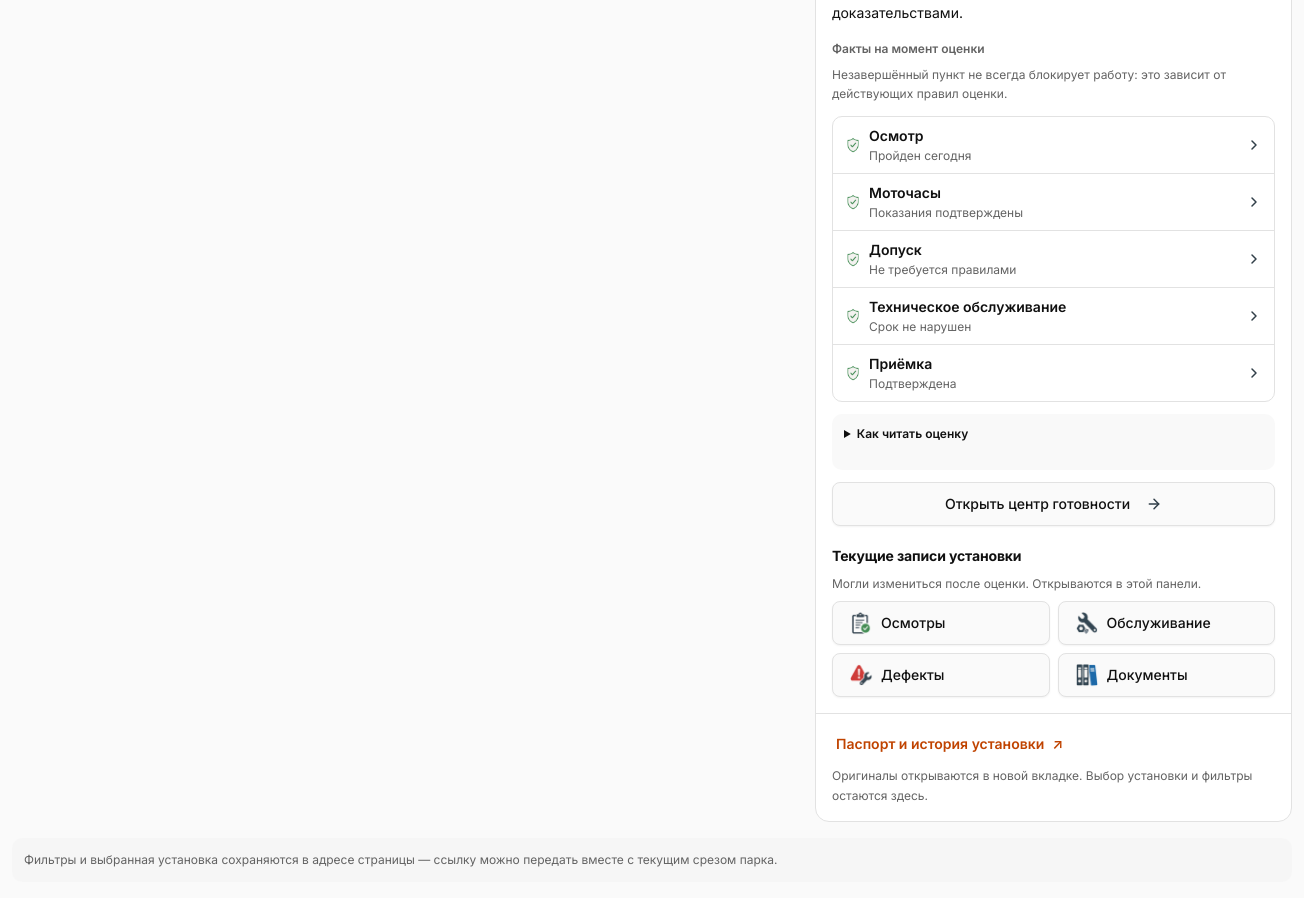
Test case: Fleet evidence interactions › does not link an operator checklist id to the inspections journal
(page scrolled)
Click the button "Осмотры".
click(941, 623)  # box top-left (832, 601), bottom-right (1050, 645)
(page scrolled)
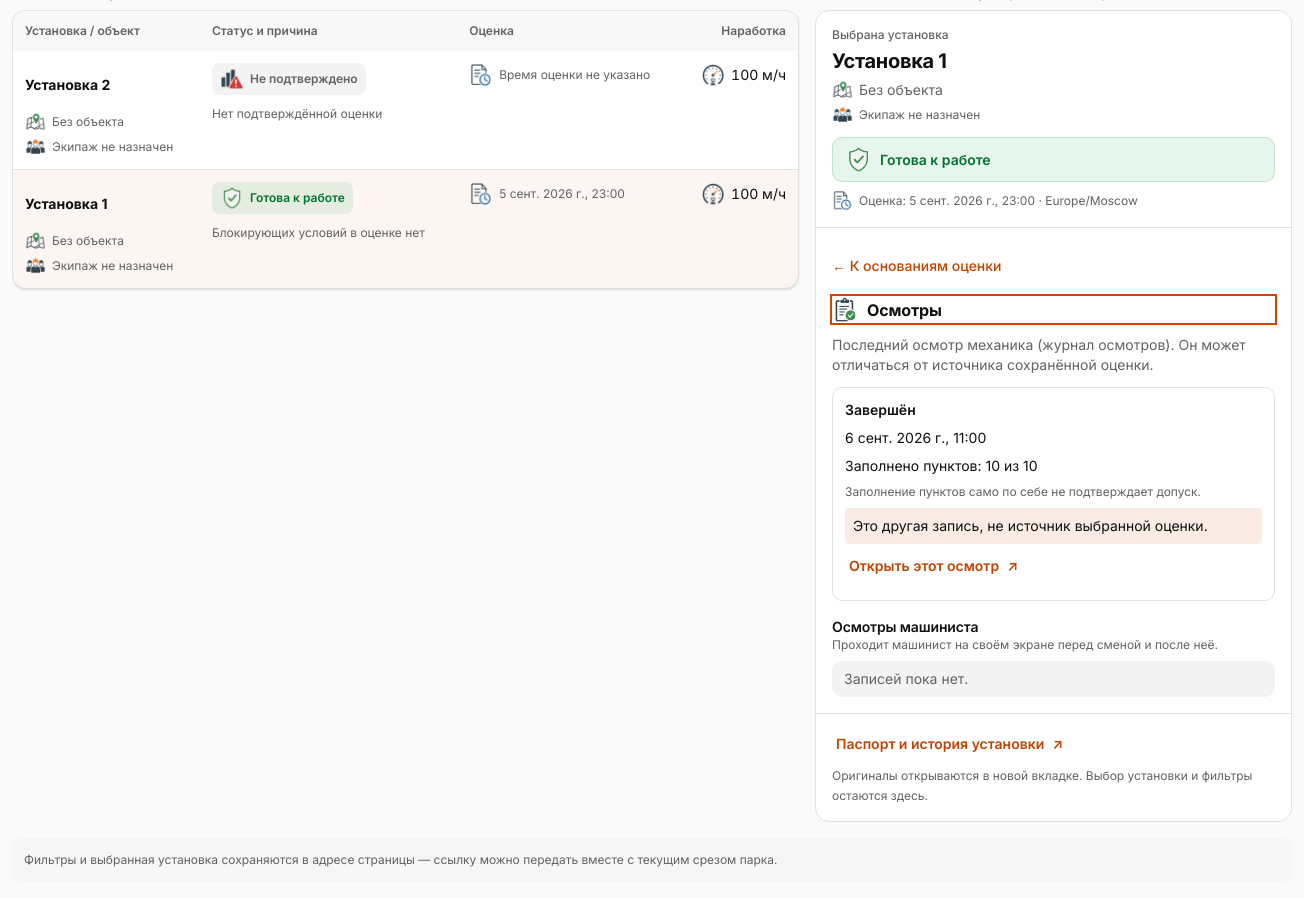
expect the text "Это другая запись, не источник выбранной оценки." is shown: met, box top-left (845, 508), bottom-right (1262, 544)
